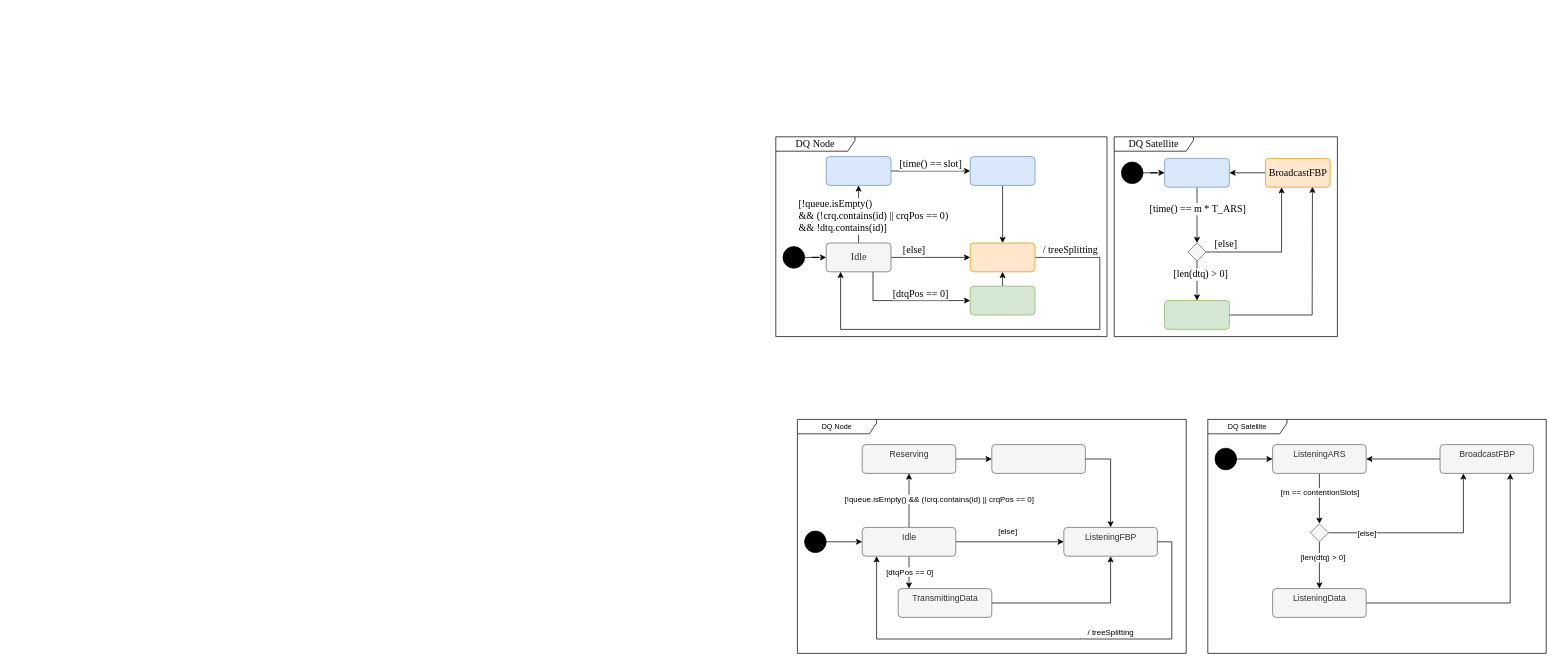
Some shapes in this 1559 by 666 pixel diagram are drawn without their labels. The shapes that lost their labels are listed below. From the top down, each one's centre as x and y in pixels, then its label:
At point (858, 170): "Reserve".
At point (1002, 170): "TransmitARS".
At point (1196, 172): "ListenARS".
At point (1002, 257): "ListenFBP".
At point (1002, 300): "TransmitData".
At point (1196, 314): "ListenData".
At point (1038, 458): "TransmittingARS".
